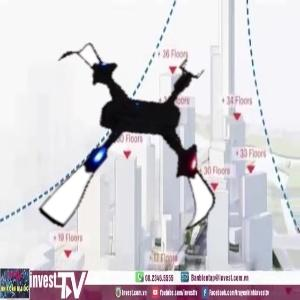drone: (14, 35, 239, 260)
